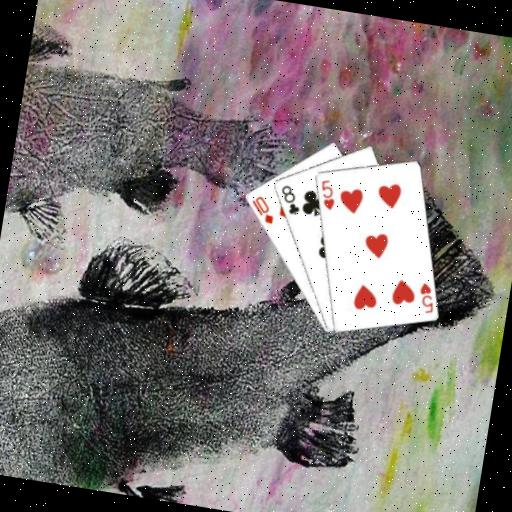10D: (245, 191, 278, 226)
5H: (313, 175, 339, 212), (413, 278, 439, 315)
8C: (274, 181, 304, 217)
